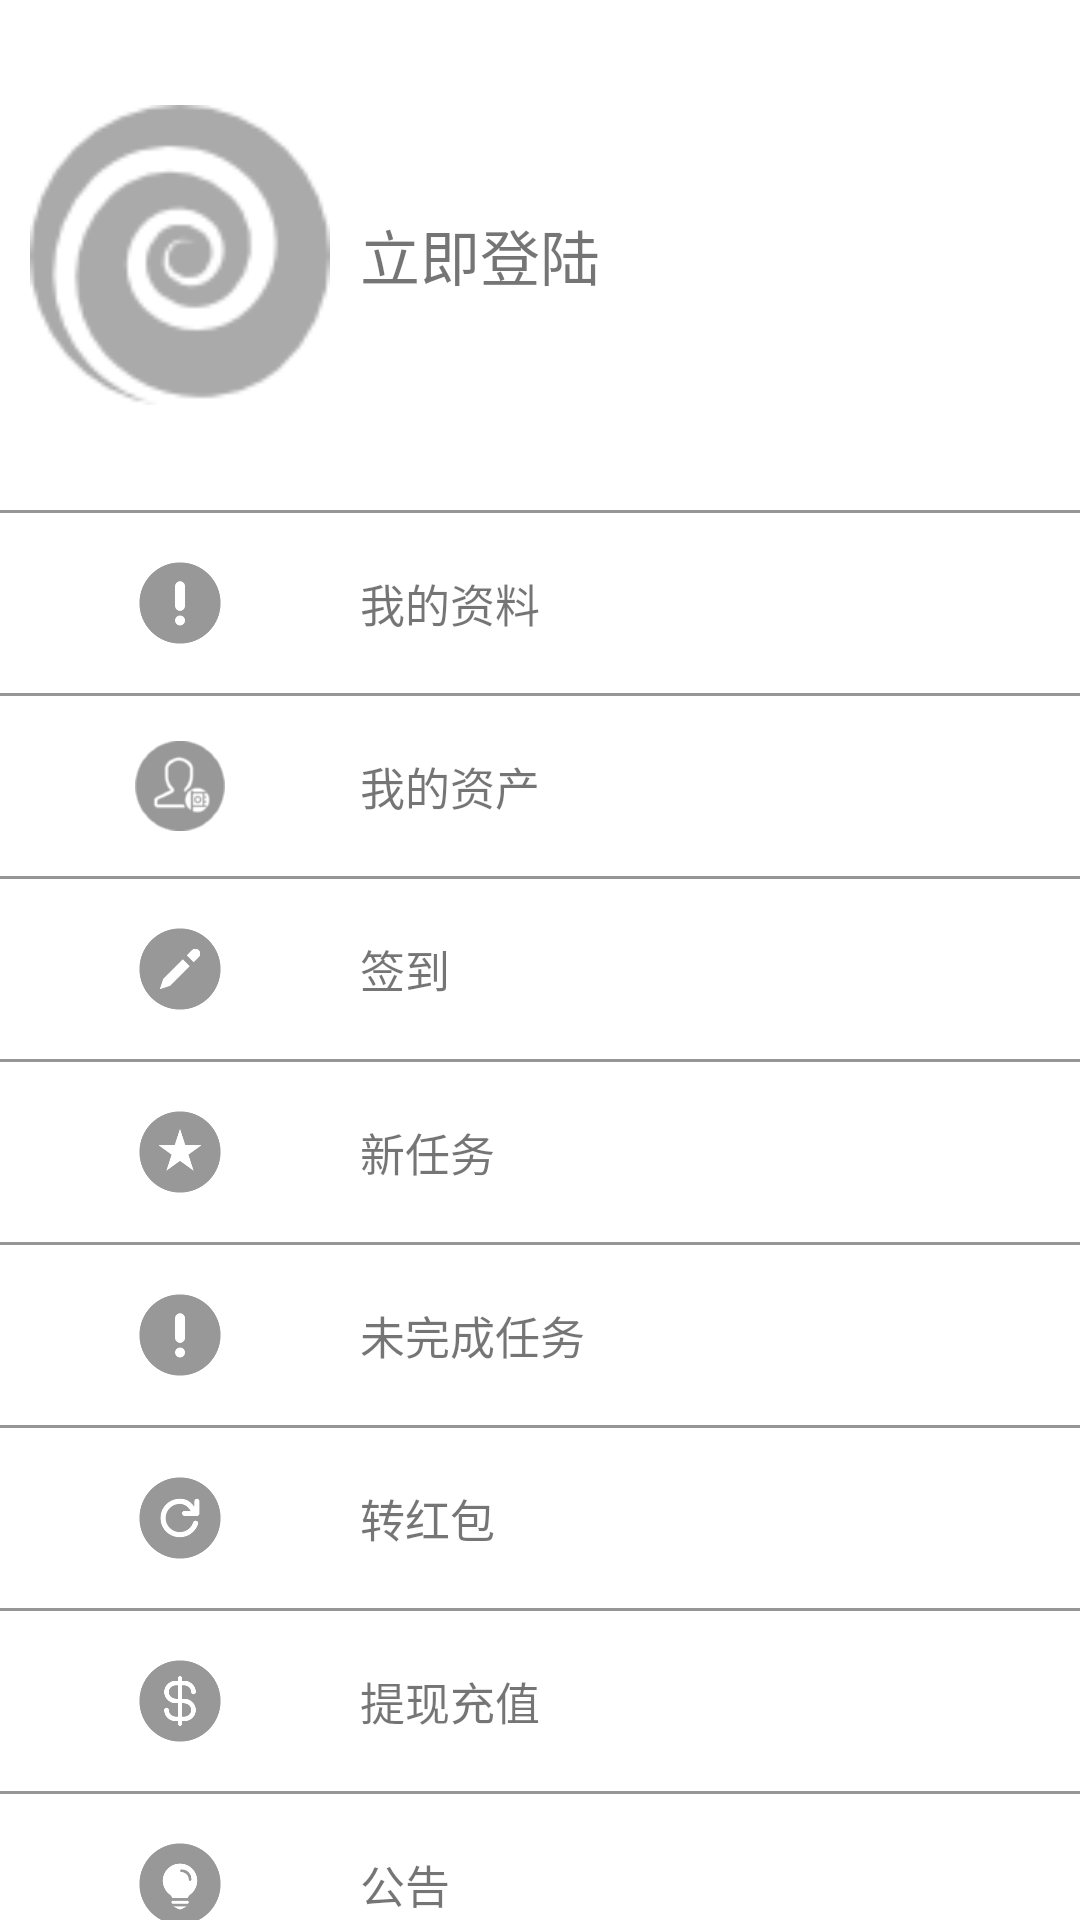

Point at icon controls on the screen. Image size 1080px x 1920px, points as [x,y].
mission: [180,1152]
mission notfinish: [180,603], [180,1335]
